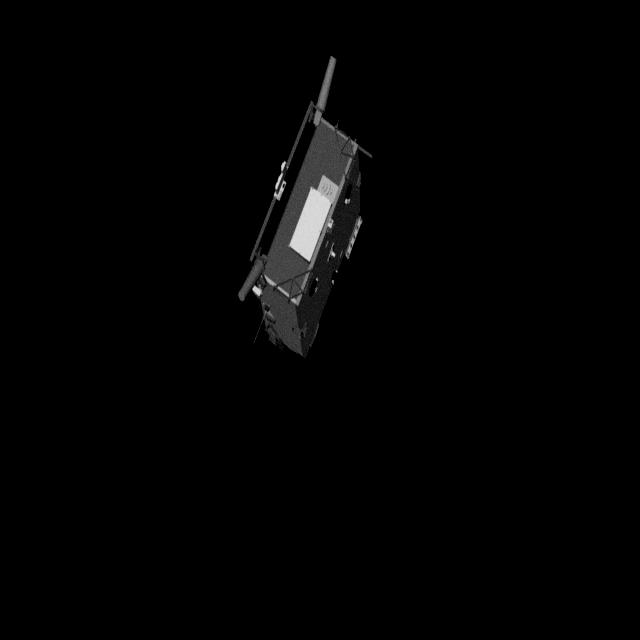medium_debris: (236, 52, 382, 372)
